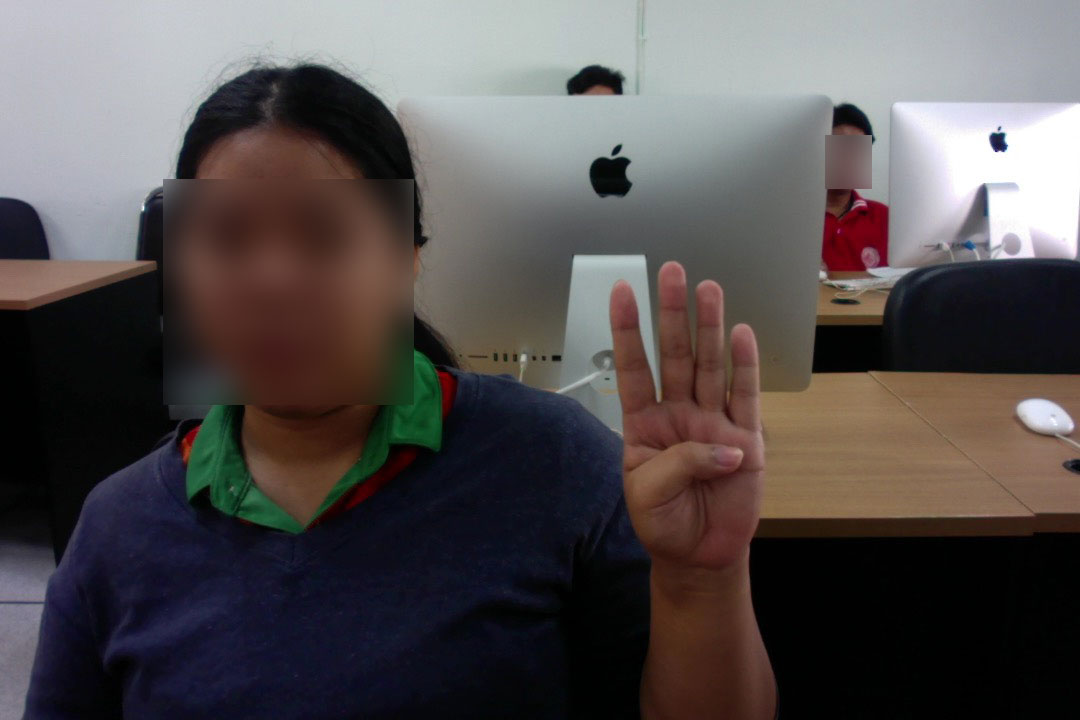bor: (602, 255, 772, 575)
